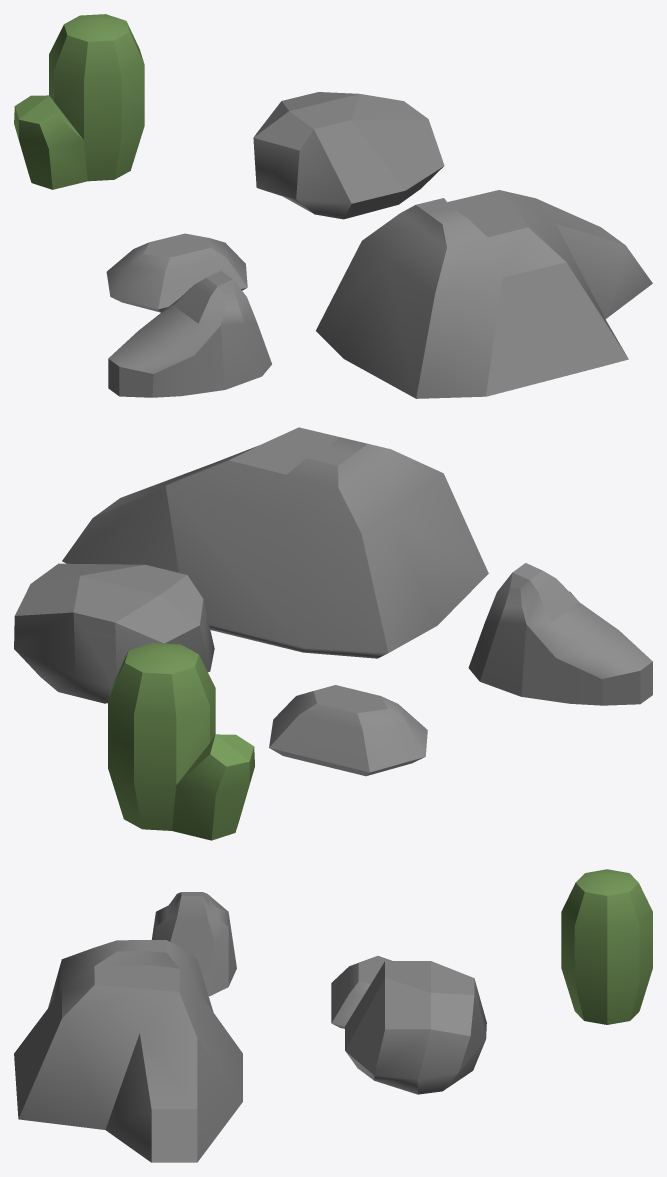
File: Obstacles.fbx
3 renders of one model, top to bottom at view 1: azimuth 30°, elevation 25°; view 2: azimuth 150°, elevation 25°; view 3: azimuth 270°, elevation 25°, orthographic. The views are drawn at different scales.
Visible parts, largest first — view 1: RockMedium2, RockMedium1, CactusMedium, RockSmall2, RockSmall1; view 2: RockMedium2, CactusMedium, RockMedium1, RockSmall2, RockSmall1; view 3: RockMedium2, RockMedium1, CactusMedium, RockSmall2, RockSmall1.
Boxes of the visible parts, x1,y1,x2,y2 form: RockMedium2: (316,190,652,398); RockMedium1: (253,92,444,219); CactusMedium: (14,14,144,189); RockSmall2: (108,271,271,397); RockSmall1: (106,233,247,312); RockMedium2: (62,427,488,658); CactusMedium: (108,643,254,840); RockMedium1: (14,563,214,703); RockSmall2: (468,563,652,705); RockSmall1: (269,685,427,776); RockMedium2: (14,940,242,1162); RockMedium1: (345,961,486,1094); CactusMedium: (561,869,652,1024); RockSmall2: (151,892,236,996); RockSmall1: (331,955,391,1028).
Size of the model in its own units: 12.08 by 3.76 by 13.95.
